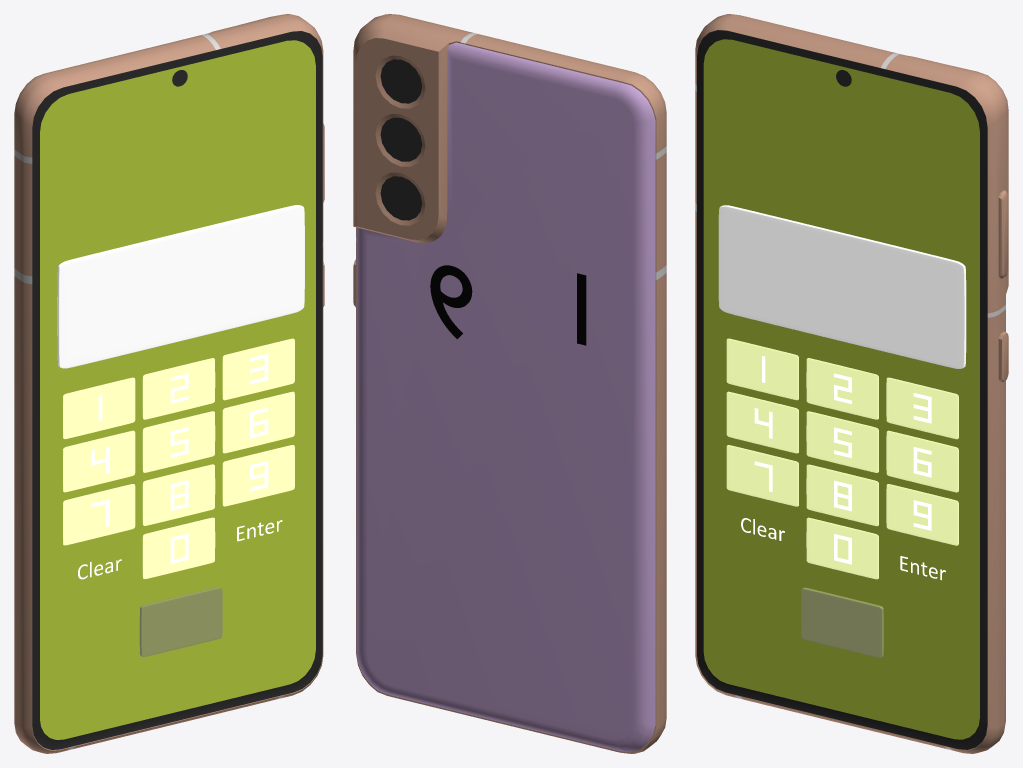
Rendered from phone.glb.
3 renders of one model, left to right at view 1: azimuth 30°, elevation 25°; view 2: azimuth 150°, elevation 25°; view 3: azimuth 330°, elevation 25°, orthographic.
Visible parts, largest first — view 1: Display, Samsung Galaxy S21, Button, C.001, C, Number; view 2: Samsung Galaxy S21, Camera Teleobject, Camera Ultrawide Angle, Camera Wide Angle, Text.001, Text; view 3: Display, Samsung Galaxy S21, Button, C.001, C, Number.
Part boxes in pixels (x1,y1,x2,y2): Display: [40, 40, 315, 739]; Samsung Galaxy S21: [14, 14, 324, 753]; Button: [63, 338, 294, 578]; C.001: [57, 205, 304, 368]; C: [139, 587, 222, 656]; Number: [78, 354, 282, 579]; Samsung Galaxy S21: [353, 14, 666, 753]; Camera Teleobject: [375, 172, 425, 225]; Camera Ultrawide Angle: [375, 55, 425, 108]; Camera Wide Angle: [375, 114, 425, 166]; Text.001: [430, 265, 472, 338]; Text: [577, 273, 586, 345]; Display: [703, 39, 979, 739]; Samsung Galaxy S21: [695, 14, 1008, 753]; Button: [726, 338, 958, 579]; C.001: [718, 205, 966, 368]; C: [801, 587, 883, 657]; Number: [741, 356, 945, 580].
Size of the model in its own units: 0.0704 by 0.149 by 0.0198.
